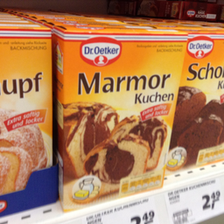cake: (56, 24, 188, 215), (1, 26, 52, 192)
